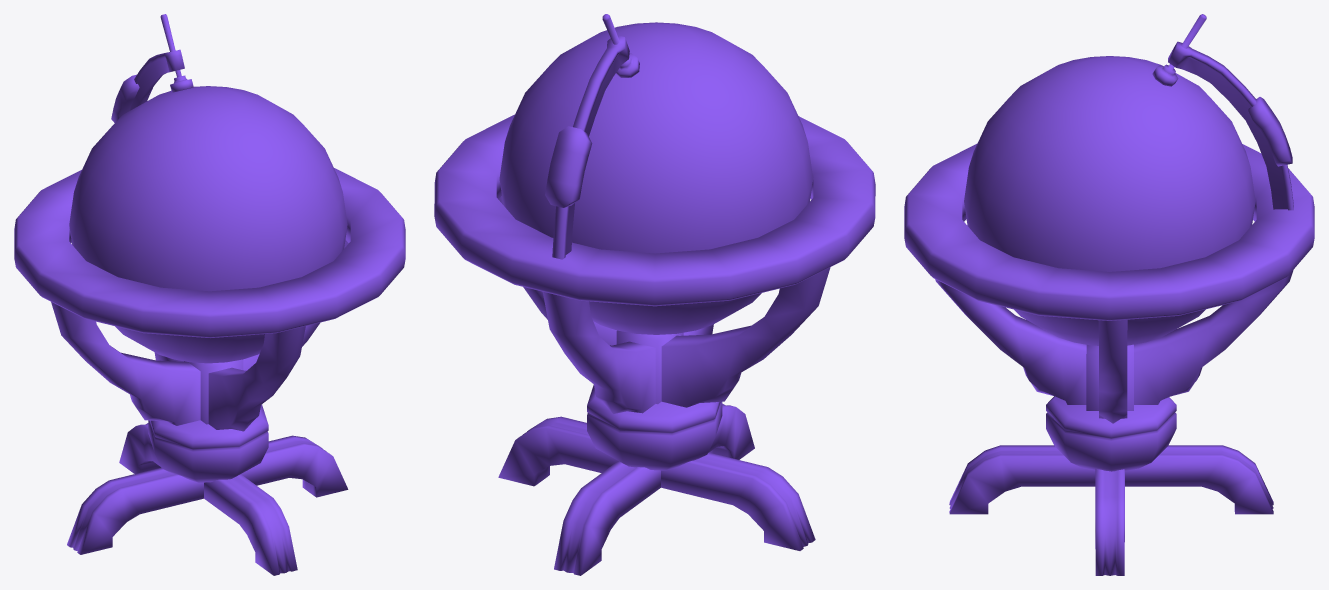
3 views of the same model, side by side, from view 1: azimuth 30°, elevation 25°; view 2: azimuth 150°, elevation 25°; view 3: azimuth 270°, elevation 25° (orthographic). The views are drawn at different scales.
Visible parts, largest first — view 1: Object029; view 2: Object029; view 3: Object029.
Boxes of the visible parts, x1=… form: Object029: x1=14, y1=14, x2=405, y2=575; Object029: x1=434, y1=14, x2=875, y2=575; Object029: x1=904, y1=14, x2=1314, y2=575.
Size of the model in its own units: 44.51 by 58.25 by 43.91.
